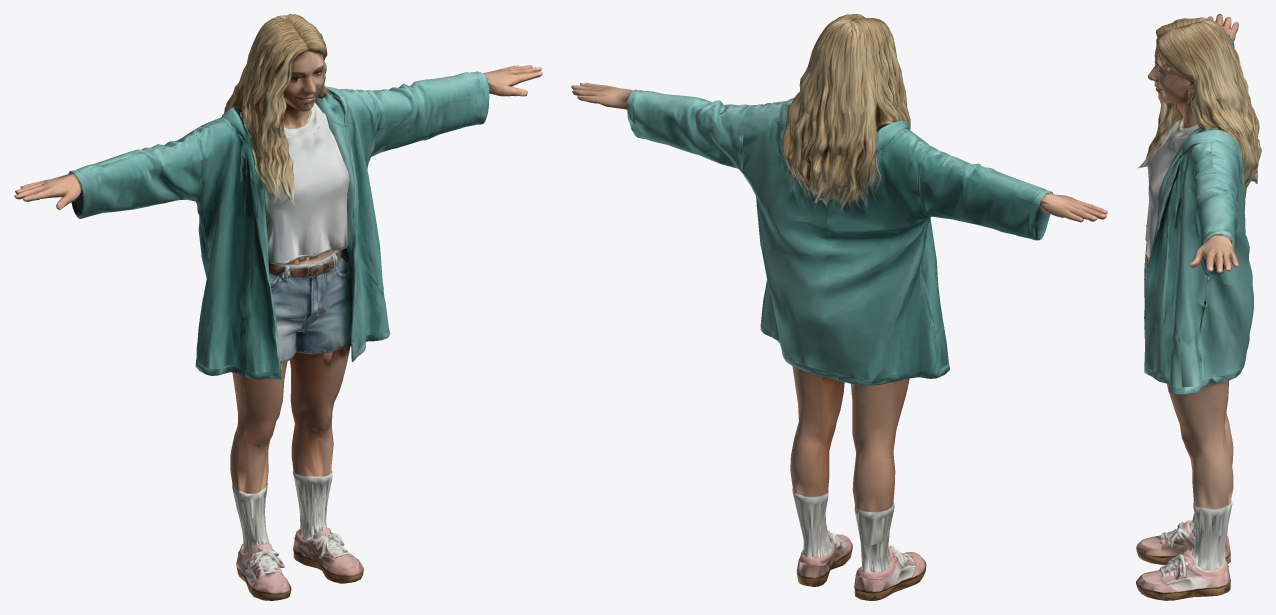
File: sunny.fbx
3 renders of one model, left to right at view 1: azimuth 30°, elevation 25°; view 2: azimuth 150°, elevation 25°; view 3: azimuth 270°, elevation 25°, orthographic.
Parts seen in each view (by area): view 1: tripo_node_486985e9-60a7-440e-a805-0125362538ea; view 2: tripo_node_486985e9-60a7-440e-a805-0125362538ea; view 3: tripo_node_486985e9-60a7-440e-a805-0125362538ea.
Boxes of the visible parts, x1=… form: tripo_node_486985e9-60a7-440e-a805-0125362538ea: x1=14, y1=14, x2=542, y2=600; tripo_node_486985e9-60a7-440e-a805-0125362538ea: x1=571, y1=14, x2=1107, y2=600; tripo_node_486985e9-60a7-440e-a805-0125362538ea: x1=1136, y1=14, x2=1261, y2=600.
Bounding box in the file's own units: 0.9719 × 0.979 × 0.201.
1 material, 1 textured.
